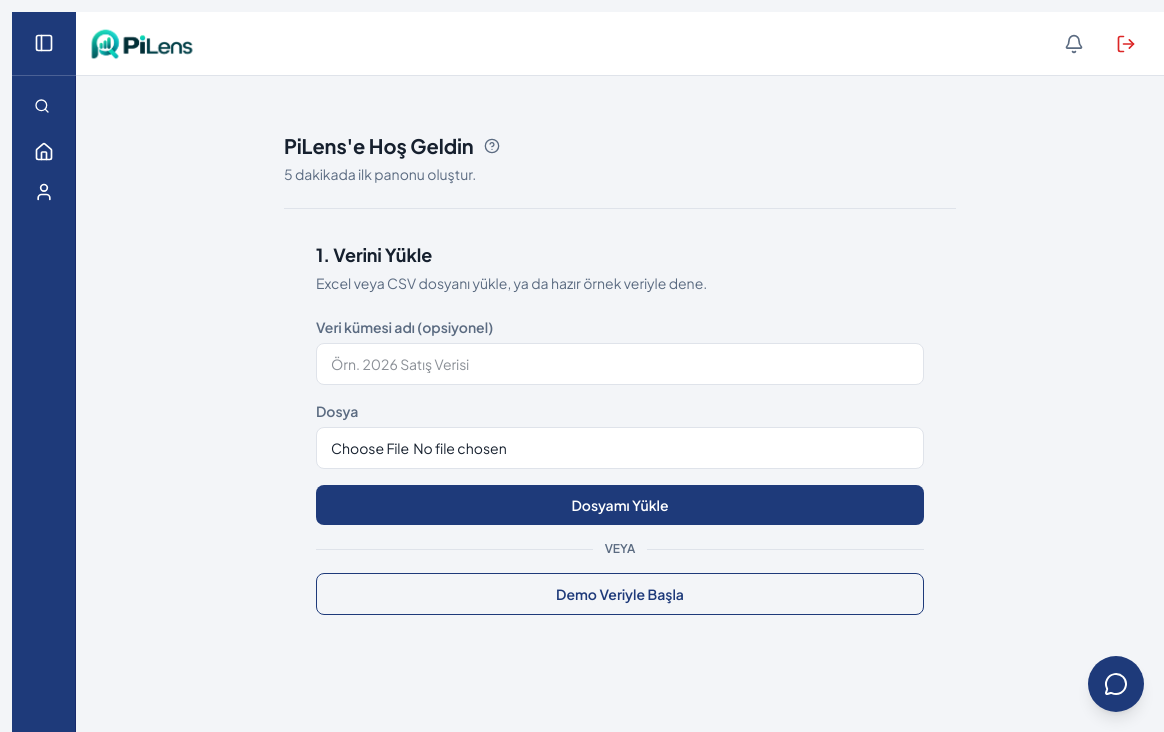
Test: OnboardingPage › dosya secilmeden yukleme denenirse hata gosterir
Click the button "Dosyamı Yükle" at point(620, 505), box [316, 485, 924, 525]
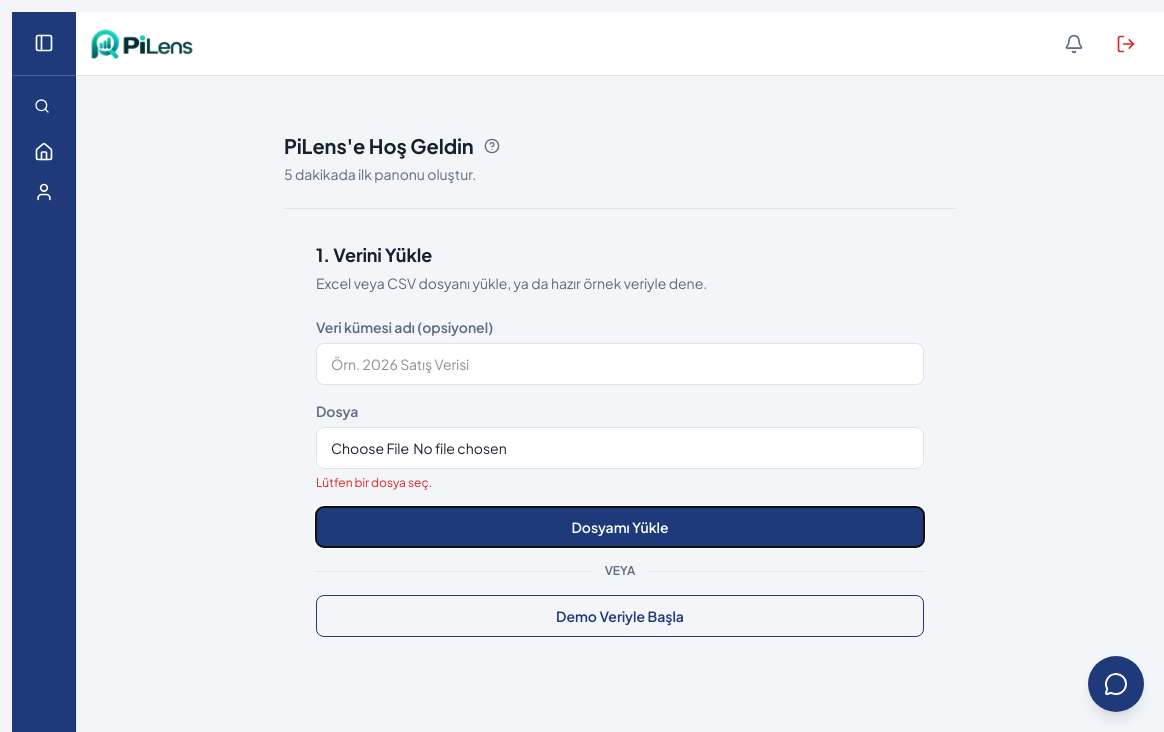
Check: the text "Lütfen bir dosya seç." is shown, box [316, 475, 432, 490]
